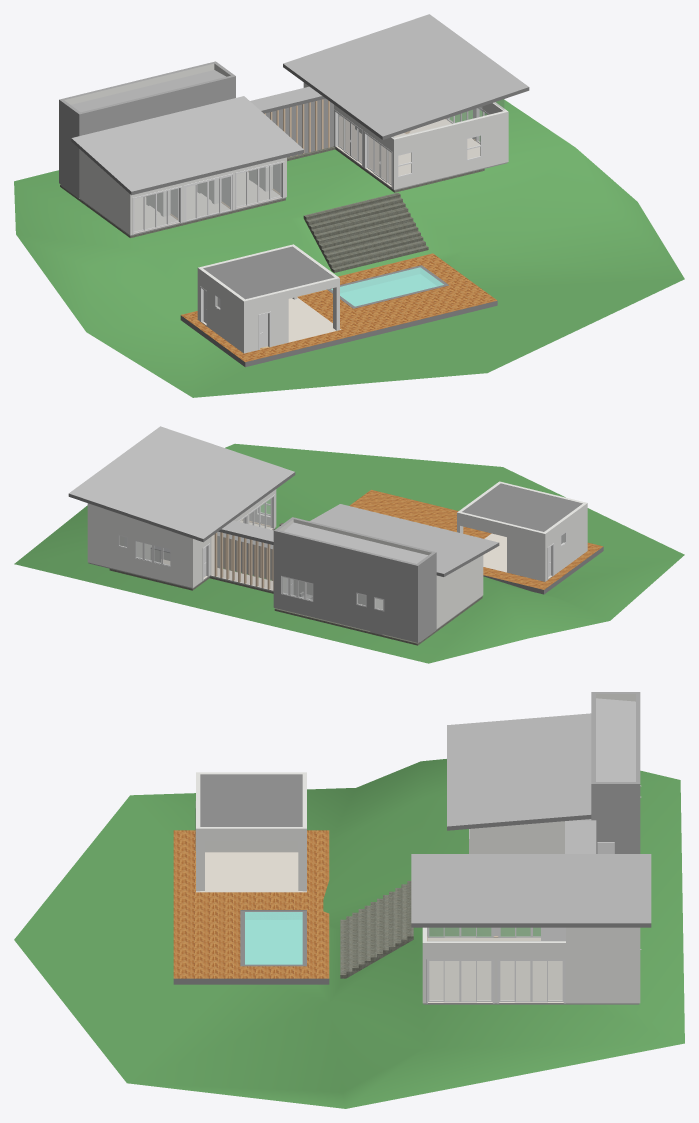
The model's file is ITATIBA.gltf.
3 renders of one model, top to bottom at view 1: azimuth 30°, elevation 25°; view 2: azimuth 150°, elevation 25°; view 3: azimuth 270°, elevation 25°, orthographic. The views are drawn at different scales.
Visible parts, largest first — view 1: Superfície [433080], Telhado básico [328382], Telhado básico [328723], Wood Joist 200mm - Wood Finish (1), Escadas (1), Parede básica [202100], Generic Roof - 300mm (1), Parede básica [377908], Piso [416950], Parede básica [207537], Piso [416268], Parede básica [207382] (+20 smaller); view 2: Superfície [433080], Telhado básico [328382], Parede básica [412437], Parede básica [206661], Telhado básico [328723], Wood Joist 200mm - Wood Finish (1), Generic Roof - 300mm (1), Parede básica [207170], Parede básica [414550], Parede básica [327197], object 158, Parede básica [207382] (+15 smaller); view 3: Superfície [433080], Telhado básico [328382], Telhado básico [328723], Wood Joist 200mm - Wood Finish (1), Parede básica [201786], Piso [416268], Generic Roof - 300mm (1), Escadas (1), Piso [417164], Telhado básico [329136], Piscina (1), Parede básica [215113] (+9 smaller).
Boxes of the visible parts, left/top/right/bottom form: Superfície [433080]: left=14, top=99, right=684, bottom=397; Telhado básico [328382]: left=283, top=14, right=529, bottom=139; Telhado básico [328723]: left=71, top=96, right=303, bottom=195; Wood Joist 200mm - Wood Finish (1): left=180, top=253, right=497, bottom=367; Escadas (1): left=303, top=192, right=428, bottom=272; Parede básica [202100]: left=392, top=111, right=505, bottom=189; Generic Roof - 300mm (1): left=203, top=246, right=334, bottom=299; Parede básica [377908]: left=81, top=75, right=232, bottom=134; Piso [416950]: left=79, top=172, right=285, bottom=236; Parede básica [207537]: left=245, top=277, right=339, bottom=352; Piso [416268]: left=287, top=116, right=507, bottom=190; Parede básica [207382]: left=199, top=268, right=246, bottom=353; Superfície [433080]: left=14, top=443, right=684, bottom=663; Telhado básico [328382]: left=68, top=426, right=295, bottom=542; Parede básica [412437]: left=323, top=541, right=415, bottom=641; Parede básica [206661]: left=90, top=504, right=189, bottom=587; Telhado básico [328723]: left=310, top=504, right=499, bottom=576; Wood Joist 200mm - Wood Finish (1): left=349, top=489, right=603, bottom=594; Generic Roof - 300mm (1): left=462, top=483, right=582, bottom=531; Parede básica [207170]: left=457, top=511, right=546, bottom=581; Parede básica [414550]: left=273, top=529, right=324, bottom=593; Parede básica [327197]: left=436, top=556, right=481, bottom=628; object 158: left=211, top=532, right=272, bottom=589; Parede básica [207382]: left=544, top=502, right=587, bottom=580; Superfície [433080]: left=14, top=759, right=684, bottom=1108; Telhado básico [328382]: left=411, top=854, right=651, bottom=927; Telhado básico [328723]: left=447, top=713, right=591, bottom=830; Wood Joist 200mm - Wood Finish (1): left=173, top=830, right=329, bottom=984; Parede básica [201786]: left=422, top=927, right=640, bottom=1003; Piso [416268]: left=423, top=937, right=639, bottom=1004; Generic Roof - 300mm (1): left=200, top=774, right=302, bottom=826; Escadas (1): left=340, top=881, right=413, bottom=978; Piso [417164]: left=196, top=852, right=306, bottom=892; Telhado básico [329136]: left=596, top=698, right=635, bottom=781; Piscina (1): left=245, top=912, right=302, bottom=964; Parede básica [215113]: left=591, top=782, right=635, bottom=853.
Size of the model in its own units: 34.21 by 8.8 by 30.21.
